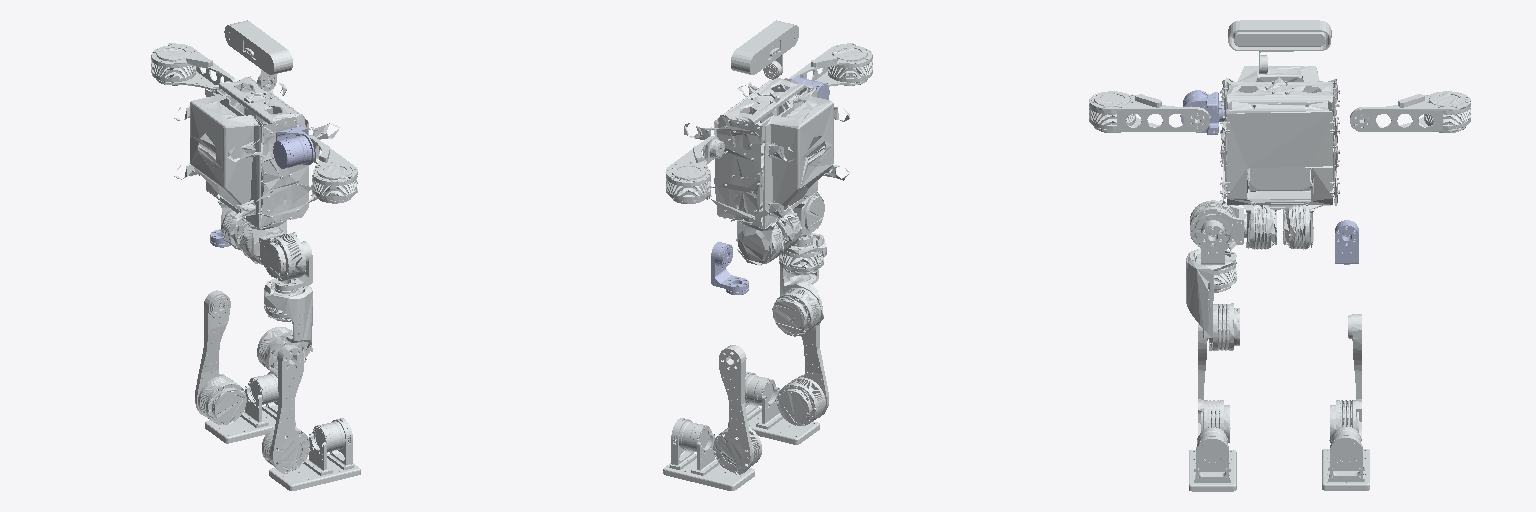
The robot description file, URDF, robot "MOS9.2_urdf_0308-4":
<?xml version='1.0' encoding='utf-8'?>
<robot name="MOS9.2_urdf_0308-4">
  <link name="body">
    <inertial>
      <origin xyz="-0.0182501208826118 -0.00190049970240902 0.0863636963583089" rpy="0 0 0" />
      <mass value="4.35806806126274" />
      <inertia ixx="0.0126554214449882" ixy="-1.94365827372157E-06" ixz="-0.000106200880503345" iyy="0.00838591116778958" iyz="-3.40121566836312E-07" izz="0.00895360202585989" />
    </inertial>
    <visual>
      <origin xyz="0 0 0" rpy="0 0 0" />
      <geometry>
        <mesh filename="meshes/body.stl" />
      </geometry>
      <material name="">
        <color rgba="0.898039215686275 0.917647058823529 0.929411764705882 1" />
      </material>
    </visual>
    <collision>
      <origin xyz="0 0 0" rpy="0 0 0" />
      <geometry>
        <mesh filename="meshes/body.stl" />
      </geometry>
    </collision>
  </link>
  <link name="neck">
    <inertial>
      <origin xyz="-0.000187733021383862 0.00313210111852241 0.0367257386628151" rpy="0 0 0" />
      <mass value="0.243152851941267" />
      <inertia ixx="0.000107527809141662" ixy="2.32844382833212E-09" ixz="-3.79598574699867E-07" iyy="0.000106047679861548" iyz="6.89109259403018E-06" izz="0.000100507717987487" />
    </inertial>
    <visual>
      <origin xyz="0 0 0" rpy="0 0 0" />
      <geometry>
        <mesh filename="meshes/neck.stl" />
      </geometry>
      <material name="">
        <color rgba="0.898039215686275 0.917647058823529 0.929411764705882 1" />
      </material>
    </visual>
    <collision>
      <origin xyz="0 0 0" rpy="0 0 0" />
      <geometry>
        <mesh filename="meshes/neck.stl" />
      </geometry>
    </collision>
  </link>
  <joint name="b_n" type="revolute">
    <origin xyz="-0.005 0 0.2441" rpy="0 0 0" />
    <parent link="body" />
    <child link="neck" />
    <axis xyz="0 0 -1" />
    <limit lower="-3.141592653589793" upper="3.141592653589793" effort="60" velocity="20" />
  </joint>
  <link name="head">
    <inertial>
      <origin xyz="-0.00148614977503109 0.0537575763860302 -0.0296115992755681" rpy="0 0 0" />
      <mass value="0.322467436272026" />
      <inertia ixx="0.000786985359858465" ixy="8.48624102566507E-08" ixz="3.88916575671315E-09" iyy="0.000779452507232674" iyz="-7.57222414279963E-06" izz="9.3920453594969E-05" />
    </inertial>
    <visual>
      <origin xyz="0 0 0" rpy="0 0 0" />
      <geometry>
        <mesh filename="meshes/head.stl" />
      </geometry>
      <material name="">
        <color rgba="0.898039215686275 0.917647058823529 0.929411764705882 1" />
      </material>
    </visual>
    <collision>
      <origin xyz="0 0 0" rpy="0 0 0" />
      <geometry>
        <mesh filename="meshes/head.stl" />
      </geometry>
    </collision>
  </link>
  <joint name="n_h" type="revolute">
    <origin xyz="0 -0.033 0.0475" rpy="1.5707963267949 0 0" />
    <parent link="neck" />
    <child link="head" />
    <axis xyz="0 0 -1" />
    <limit lower="-3.141592653589793" upper="3.141592653589793" effort="60" velocity="20" />
  </joint>
  <link name="Rshoulder">
    <inertial>
      <origin xyz="-0.00132059633693976 5.62178901126614E-05 -0.0337001041277888" rpy="0 0 0" />
      <mass value="0.244736730758832" />
      <inertia ixx="0.000129373968243136" ixy="-8.60991135369166E-08" ixz="1.2078891148474E-05" iyy="8.79104114782035E-05" iyz="-2.4422653123027E-07" izz="0.000106520121171402" />
    </inertial>
    <visual>
      <origin xyz="0 0 0" rpy="0 0 0" />
      <geometry>
        <mesh filename="meshes/Rshoulder.stl" />
      </geometry>
      <material name="">
        <color rgba="0.792156862745098 0.819607843137255 0.933333333333333 1" />
      </material>
    </visual>
    <collision>
      <origin xyz="0 0 0" rpy="0 0 0" />
      <geometry>
        <mesh filename="meshes/Rshoulder.stl" />
      </geometry>
    </collision>
  </link>
  <joint name="b_Rs" type="revolute">
    <origin xyz="-0.0100000000000138 -0.105000000000124 0.192100000000112" rpy="1.5707963267949 0 -3.14159265358979" />
    <parent link="body" />
    <child link="Rshoulder" />
    <axis xyz="0 0 -1" />
    <limit lower="-3.141592653589793" upper="3.141592653589793" effort="60" velocity="20" />
  </joint>
  <link name="Rarm">
    <inertial>
      <origin xyz="0.123976619673335 2.3816494963344E-05 0.0179849541694587" rpy="0 0 0" />
      <mass value="0.505922675972045" />
      <inertia ixx="0.000249177335899191" ixy="2.41233180203102E-05" ixz="5.12994020146406E-05" iyy="0.000863279087734146" iyz="8.96071856183868E-06" izz="0.000769798783434279" />
    </inertial>
    <visual>
      <origin xyz="0 0 0" rpy="0 0 0" />
      <geometry>
        <mesh filename="meshes/Rarm.stl" />
      </geometry>
      <material name="">
        <color rgba="0.898039215686275 0.917647058823529 0.929411764705882 1" />
      </material>
    </visual>
    <collision>
      <origin xyz="0 0 0" rpy="0 0 0" />
      <geometry>
        <mesh filename="meshes/Rarm.stl" />
      </geometry>
    </collision>
  </link>
  <joint name="Rs_Ra" type="revolute">
    <origin xyz="-0.0250000000000136 0 -0.0489999999998756" rpy="0 1.5707963267949 0" />
    <parent link="Rshoulder" />
    <child link="Rarm" />
    <axis xyz="0 0 1" />
    <limit lower="-3.141592653589793" upper="3.141592653589793" effort="60" velocity="20" />
  </joint>
  <link name="Rhand">
    <inertial>
      <origin xyz="0.109240589043814 0.000677471556759845 -0.00178541903634942" rpy="0 0 0" />
      <mass value="0.273862324070502" />
      <inertia ixx="5.2613968285487E-05" ixy="4.01189603422068E-06" ixz="2.85280392770804E-05" iyy="0.000699576611389701" iyz="1.76848091002788E-07" izz="0.000725679519367959" />
    </inertial>
    <visual>
      <origin xyz="0 0 0" rpy="0 0 0" />
      <geometry>
        <mesh filename="meshes/Rhand.stl" />
      </geometry>
      <material name="">
        <color rgba="0.898039215686275 0.917647058823529 0.929411764705882 1" />
      </material>
    </visual>
    <collision>
      <origin xyz="0 0 0" rpy="0 0 0" />
      <geometry>
        <mesh filename="meshes/Rhand.stl" />
      </geometry>
    </collision>
  </link>
  <joint name="Ra_Rh" type="revolute">
    <origin xyz="0.16 0.0286499999999997 0.0299999999999999" rpy="1.5707963267949 0 0" />
    <parent link="Rarm" />
    <child link="Rhand" />
    <axis xyz="0 0 -1" />
    <limit lower="-3.141592653589793" upper="3.141592653589793" effort="60" velocity="20" />
  </joint>
  <link name="Lshoulder">
    <inertial>
      <origin xyz="0.00132063035506957 5.63171682046171E-05 -0.0337001075421161" rpy="0 0 0" />
      <mass value="0.244736778509988" />
      <inertia ixx="0.000129374049886736" ixy="8.53358338819827E-08" ixz="-1.20789422702937E-05" iyy="8.79120362451655E-05" iyz="-2.4164238223282E-07" izz="0.000106518334762561" />
    </inertial>
    <visual>
      <origin xyz="0 0 0" rpy="0 0 0" />
      <geometry>
        <mesh filename="meshes/Lshoulder.stl" />
      </geometry>
      <material name="">
        <color rgba="0.792156862745098 0.819607843137255 0.933333333333333 1" />
      </material>
    </visual>
    <collision>
      <origin xyz="0 0 0" rpy="0 0 0" />
      <geometry>
        <mesh filename="meshes/Lshoulder.stl" />
      </geometry>
    </collision>
  </link>
  <joint name="b_Ls" type="revolute">
    <origin xyz="-0.00999998124092416 0.105000001016346 0.192100005298829" rpy="1.5707963267949 0 0" />
    <parent link="body" />
    <child link="Lshoulder" />
    <axis xyz="0 0 -1" />
    <limit lower="-3.141592653589793" upper="3.141592653589793" effort="60" velocity="20" />
  </joint>
  <link name="Larm">
    <inertial>
      <origin xyz="0.123966814199197 2.38166802215833E-05 -0.017975150553097" rpy="0 0 0" />
      <mass value="0.505922690783429" />
      <inertia ixx="0.000249179325079772" ixy="2.41233167513086E-05" ixz="-5.12994012520643E-05" iyy="0.000863279097732329" iyz="-8.96071866395451E-06" izz="0.000769796795530053" />
    </inertial>
    <visual>
      <origin xyz="0 0 0" rpy="0 0 0" />
      <geometry>
        <mesh filename="meshes/Larm.stl" />
      </geometry>
      <material name="">
        <color rgba="0.898039215686275 0.917647058823529 0.929411764705882 1" />
      </material>
    </visual>
    <collision>
      <origin xyz="0 0 0" rpy="0 0 0" />
      <geometry>
        <mesh filename="meshes/Larm.stl" />
      </geometry>
    </collision>
  </link>
  <joint name="Ls_La" type="revolute">
    <origin xyz="0.0249999812409242 0 -0.0489999989836545" rpy="0 1.5707963267949 0" />
    <parent link="Lshoulder" />
    <child link="Larm" />
    <axis xyz="0 0 -1" />
    <limit lower="-3.141592653589793" upper="3.141592653589793" effort="60" velocity="20" />
  </joint>
  <link name="Lhand">
    <inertial>
      <origin xyz="-0.109242689903327 -2.67381965457503E-08 -0.00178541891944009" rpy="0 0 0" />
      <mass value="0.273862322424458" />
      <inertia ixx="5.25890920084874E-05" ixy="-3.81681361599439E-10" ixz="-2.85285855769356E-05" iyy="0.000699601487073087" iyz="6.71512616747776E-11" izz="0.000725679519010215" />
    </inertial>
    <visual>
      <origin xyz="0 0 0" rpy="0 0 0" />
      <geometry>
        <mesh filename="meshes/Lhand.stl" />
      </geometry>
      <material name="">
        <color rgba="0.898039215686275 0.917647058823529 0.929411764705882 1" />
      </material>
    </visual>
    <collision>
      <origin xyz="0 0 0" rpy="0 0 0" />
      <geometry>
        <mesh filename="meshes/Lhand.stl" />
      </geometry>
    </collision>
  </link>
  <joint name="La_Lh" type="revolute">
    <origin xyz="0.16 0.0286500000000008 -0.0299999999999989" rpy="-1.5707963267949 0 3.14159265358979" />
    <parent link="Larm" />
    <child link="Lhand" />
    <axis xyz="0 0 -1" />
    <limit lower="-3.141592653589793" upper="3.141592653589793" effort="60" velocity="20" />
  </joint>
  <link name="Rhip">
    <inertial>
      <origin xyz="0.00165224983746645 -0.000153256597703239 -0.04716983324128" rpy="0 0 0" />
      <mass value="0.447922579537738" />
      <inertia ixx="0.000336557260611948" ixy="6.73410632138989E-07" ixz="-1.54851819022286E-07" iyy="0.000175984295076371" iyz="-3.79544774009115E-08" izz="0.00021248524943445" />
    </inertial>
    <visual>
      <origin xyz="0 0 0" rpy="0 0 0" />
      <geometry>
        <mesh filename="meshes/Rhip.stl" />
      </geometry>
      <material name="">
        <color rgba="0.898039215686275 0.917647058823529 0.929411764705882 1" />
      </material>
    </visual>
    <collision>
      <origin xyz="0 0 0" rpy="0 0 0" />
      <geometry>
        <mesh filename="meshes/Rhip.stl" />
      </geometry>
    </collision>
  </link>
  <joint name="b_Rh" type="revolute">
    <origin xyz="-0.0150000000000001 -0.0645 -0.0466" rpy="1.5707963267949 0 3.14159265358979" />
    <parent link="body" />
    <child link="Rhip" />
    <axis xyz="0 0 1" />
    <limit lower="-3.141592653589793" upper="3.141592653589793" effort="60" velocity="20" />
  </joint>
  <link name="Rlap">
    <inertial>
      <origin xyz="3.09121089836495E-10 -0.031721697647471 0.000916614078336042" rpy="0 0 0" />
      <mass value="0.175119556314121" />
      <inertia ixx="0.000155307669924318" ixy="1.87603158621217E-12" ixz="3.79507968706983E-13" iyy="7.5052789038172E-05" iyz="-3.48905088975491E-05" izz="0.000137460344788302" />
    </inertial>
    <visual>
      <origin xyz="0 0 0" rpy="0 0 0" />
      <geometry>
        <mesh filename="meshes/Rlap.stl" />
      </geometry>
      <material name="">
        <color rgba="0.898039215686275 0.917647058823529 0.929411764705882 1" />
      </material>
    </visual>
    <collision>
      <origin xyz="0 0 0" rpy="0 0 0" />
      <geometry>
        <mesh filename="meshes/Rlap.stl" />
      </geometry>
    </collision>
  </link>
  <joint name="Rh_Rl" type="revolute">
    <origin xyz="-0.0275 0 -0.061" rpy="0 1.5707963267949 0" />
    <parent link="Rhip" />
    <child link="Rlap" />
    <axis xyz="0 0 -1" />
    <limit lower="-3.141592653589793" upper="3.141592653589793" effort="60" velocity="20" />
  </joint>
  <link name="Rleg1">
    <inertial>
      <origin xyz="0.000530354807968397 -0.00413771934599061 -0.0824206235447885" rpy="0 0 0" />
      <mass value="0.966091751905849" />
      <inertia ixx="0.00165524755190869" ixy="6.84286273811622E-06" ixz="-4.97413624702097E-05" iyy="0.00139196745796225" iyz="7.9840999362446E-05" izz="0.000841039186200865" />
    </inertial>
    <visual>
      <origin xyz="0 0 0" rpy="0 0 0" />
      <geometry>
        <mesh filename="meshes/Rleg1.stl" />
      </geometry>
      <material name="">
        <color rgba="0.898039215686275 0.917647058823529 0.929411764705882 1" />
      </material>
    </visual>
    <collision>
      <origin xyz="0 0 0" rpy="0 0 0" />
      <geometry>
        <mesh filename="meshes/Rleg1.stl" />
      </geometry>
    </collision>
  </link>
  <joint name="Rl_Rl1" type="revolute">
    <origin xyz="0 -0.063 0.0280000000000001" rpy="1.5707963267949 0 3.14159265358979" />
    <parent link="Rlap" />
    <child link="Rleg1" />
    <axis xyz="0 0 -1" />
    <limit lower="-3.141592653589793" upper="3.141592653589793" effort="60" velocity="20" />
  </joint>
  <link name="Rleg2">
    <inertial>
      <origin xyz="-0.00407191869623438 -0.135567799725998 -0.00123327776602503" rpy="0 0 0" />
      <mass value="0.624084469676422" />
      <inertia ixx="0.00145322270859193" ixy="0.00017224973098276" ixz="-4.17604226750762E-06" iyy="0.000231800595801017" iyz="-3.19103261849037E-05" izz="0.00164919662535833" />
    </inertial>
    <visual>
      <origin xyz="0 0 0" rpy="0 0 0" />
      <geometry>
        <mesh filename="meshes/Rleg2.stl" />
      </geometry>
      <material name="">
        <color rgba="0.898039215686275 0.917647058823529 0.929411764705882 1" />
      </material>
    </visual>
    <collision>
      <origin xyz="0 0 0" rpy="0 0 0" />
      <geometry>
        <mesh filename="meshes/Rleg2.stl" />
      </geometry>
    </collision>
  </link>
  <joint name="Rl1_Rl2" type="revolute">
    <origin xyz="-0.00900000000000004 0 -0.146" rpy="1.5707963267949 0 -1.5707963267949" />
    <parent link="Rleg1" />
    <child link="Rleg2" />
    <axis xyz="0 0 -1" />
    <limit lower="-3.141592653589793" upper="3.141592653589793" effort="60" velocity="20" />
  </joint>
  <link name="Rankle">
    <inertial>
      <origin xyz="0.0321512482443131 -4.59865812096893E-10 -0.00303590911349036" rpy="0 0 0" />
      <mass value="0.187524858365076" />
      <inertia ixx="8.43581348561701E-05" ixy="-5.54891405587586E-12" ixz="-5.16990624082217E-05" iyy="0.000197060970011504" iyz="4.7559976232924E-12" izz="0.000176852205140379" />
    </inertial>
    <visual>
      <origin xyz="0 0 0" rpy="0 0 0" />
      <geometry>
        <mesh filename="meshes/Rankle.stl" />
      </geometry>
      <material name="">
        <color rgba="0.792156862745098 0.819607843137255 0.933333333333333 1" />
      </material>
    </visual>
    <collision>
      <origin xyz="0 0 0" rpy="0 0 0" />
      <geometry>
        <mesh filename="meshes/Rankle.stl" />
      </geometry>
    </collision>
  </link>
  <joint name="Rl2_Ra" type="revolute">
    <origin xyz="0 -0.2 0.0177999999999997" rpy="0 0 0" />
    <parent link="Rleg2" />
    <child link="Rankle" />
    <axis xyz="0 0 -1" />
    <limit lower="-3.141592653589793" upper="3.141592653589793" effort="60" velocity="20" />
  </joint>
  <link name="Rfoot">
    <inertial>
      <origin xyz="8.61075291624935E-09 -0.0355878322875397 0.0190508449468564" rpy="0 0 0" />
      <mass value="0.444249339436953" />
      <inertia ixx="0.000484874156663831" ixy="-1.04013978438541E-09" ixz="8.17922954088945E-12" iyy="0.000600950991503066" iyz="3.7593433377245E-06" izz="0.00032562953876197" />
    </inertial>
    <visual>
      <origin xyz="0 0 0" rpy="0 0 0" />
      <geometry>
        <mesh filename="meshes/Rfoot.stl" />
      </geometry>
      <material name="">
        <color rgba="0.898039215686275 0.917647058823529 0.929411764705882 1" />
      </material>
    </visual>
    <collision>
      <origin xyz="0 0 0" rpy="0 0 0" />
      <geometry>
        <mesh filename="meshes/Rfoot.stl" />
      </geometry>
    </collision>
  </link>
  <joint name="Ra_Rf" type="revolute">
    <origin xyz="0.0689999999999583 0 -0.0259999999999973" rpy="0 1.5707963267949 0" />
    <parent link="Rankle" />
    <child link="Rfoot" />
    <axis xyz="0 0 1" />
    <limit lower="-3.141592653589793" upper="3.141592653589793" effort="60" velocity="20" />
  </joint>
  <link name="Lhip">
    <inertial>
      <origin xyz="0.00165224894900179 -7.3220696434062E-05 0.0471698378385199" rpy="0 0 0" />
      <mass value="0.447922591167837" />
      <inertia ixx="0.000336557268700897" ixy="6.73410419859425E-07" ixz="1.54852005222124E-07" iyy="0.000175984305860162" iyz="4.25225663555847E-08" izz="0.00021248524919222" />
    </inertial>
    <visual>
      <origin xyz="0 0 0" rpy="0 0 0" />
      <geometry>
        <mesh filename="meshes/Lhip.stl" />
      </geometry>
      <material name="">
        <color rgba="0.898039215686275 0.917647058823529 0.929411764705882 1" />
      </material>
    </visual>
    <collision>
      <origin xyz="0 0 0" rpy="0 0 0" />
      <geometry>
        <mesh filename="meshes/Lhip.stl" />
      </geometry>
    </collision>
  </link>
  <joint name="b_Lh" type="revolute">
    <origin xyz="-0.0150000000000001 0.0645 -0.0466" rpy="1.5707963267949 0 3.14159265358979" />
    <parent link="body" />
    <child link="Lhip" />
    <axis xyz="0 0 -1" />
    <limit lower="-3.141592653589793" upper="3.141592653589793" effort="60" velocity="20" />
  </joint>
  <link name="Llap">
    <inertial>
      <origin xyz="3.09119480013109E-10 -0.0317216976474549 0.00091661407832061" rpy="0 0 0" />
      <mass value="0.175119556314121" />
      <inertia ixx="0.000155307669924318" ixy="1.87603139572582E-12" ixz="3.79508076653435E-13" iyy="7.5052789038172E-05" iyz="-3.48905088975491E-05" izz="0.000137460344788301" />
    </inertial>
    <visual>
      <origin xyz="0 0 0" rpy="0 0 0" />
      <geometry>
        <mesh filename="meshes/Llap.stl" />
      </geometry>
      <material name="">
        <color rgba="0.792156862745098 0.819607843137255 0.933333333333333 1" />
      </material>
    </visual>
    <collision>
      <origin xyz="0 0 0" rpy="0 0 0" />
      <geometry>
        <mesh filename="meshes/Llap.stl" />
      </geometry>
    </collision>
  </link>
  <joint name="Lh_Ll" type="revolute">
    <origin xyz="-0.027499999999988 9.99999999794776E-05 0.0609999999999988" rpy="0 1.5707963267949 0" />
    <parent link="Lhip" />
    <child link="Llap" />
    <axis xyz="0 0 -1" />
    <limit lower="-3.141592653589793" upper="3.141592653589793" effort="60" velocity="20" />
  </joint>
  <link name="Lleg1">
    <inertial>
      <origin xyz="-0.000535781615046887 -0.00413973081999081 -0.0824206486794982" rpy="0 0 0" />
      <mass value="0.966092683290071" />
      <inertia ixx="0.00165521762552366" ixy="-6.82778477112363E-06" ixz="4.97314795751503E-05" iyy="0.00139199006627133" iyz="7.98067807966714E-05" izz="0.000841059727133304" />
    </inertial>
    <visual>
      <origin xyz="0 0 0" rpy="0 0 0" />
      <geometry>
        <mesh filename="meshes/Lleg1.stl" />
      </geometry>
      <material name="">
        <color rgba="0.898039215686275 0.917647058823529 0.929411764705882 1" />
      </material>
    </visual>
    <collision>
      <origin xyz="0 0 0" rpy="0 0 0" />
      <geometry>
        <mesh filename="meshes/Lleg1.stl" />
      </geometry>
    </collision>
  </link>
  <joint name="Ll_Ll1" type="revolute">
    <origin xyz="0 -0.0629999999999796 0.0279999999999841" rpy="1.5707963267949 0 3.14159265358979" />
    <parent link="Llap" />
    <child link="Lleg1" />
    <axis xyz="0 0 -1" />
    <limit lower="-3.141592653589793" upper="3.141592653589793" effort="60" velocity="20" />
  </joint>
  <link name="Lleg2">
    <inertial>
      <origin xyz="0.0040643776620283 -0.135558974776272 -0.00123327766586004" rpy="0 0 0" />
      <mass value="0.624084469535357" />
      <inertia ixx="0.00145348876804195" ixy="-0.0001722077363818" ixz="4.17604198693121E-06" iyy="0.000231534517074698" iyz="-3.19103262868342E-05" izz="0.00164919660589498" />
    </inertial>
    <visual>
      <origin xyz="0 0 0" rpy="0 0 0" />
      <geometry>
        <mesh filename="meshes/Lleg2.stl" />
      </geometry>
      <material name="">
        <color rgba="0.898039215686275 0.917647058823529 0.929411764705882 1" />
      </material>
    </visual>
    <collision>
      <origin xyz="0 0 0" rpy="0 0 0" />
      <geometry>
        <mesh filename="meshes/Lleg2.stl" />
      </geometry>
    </collision>
  </link>
  <joint name="Ll1_Ll2" type="revolute">
    <origin xyz="0.00900000000000006 0 -0.146" rpy="1.5707963267949 0 1.5707963267949" />
    <parent link="Lleg1" />
    <child link="Lleg2" />
    <axis xyz="0 0 -1" />
    <limit lower="-3.141592653589793" upper="3.141592653589793" effort="60" velocity="20" />
  </joint>
  <link name="Lankle">
    <inertial>
      <origin xyz="-0.0321512482442743 6.91723612318285E-05 -0.00313158675555364" rpy="0 0 0" />
      <mass value="0.187524858365075" />
      <inertia ixx="8.43581348561703E-05" ixy="-5.54891369083716E-12" ixz="5.16990624082219E-05" iyy="0.000197060970011504" iyz="-4.75599754806032E-12" izz="0.000176852205140379" />
    </inertial>
    <visual>
      <origin xyz="0 0 0" rpy="0 0 0" />
      <geometry>
        <mesh filename="meshes/Lankle.stl" />
      </geometry>
      <material name="">
        <color rgba="0.898039215686275 0.917647058823529 0.929411764705882 1" />
      </material>
    </visual>
    <collision>
      <origin xyz="0 0 0" rpy="0 0 0" />
      <geometry>
        <mesh filename="meshes/Lankle.stl" />
      </geometry>
    </collision>
  </link>
  <joint name="Ll2_La" type="revolute">
    <origin xyz="0 -0.2 0.0177999999999994" rpy="0 0 0" />
    <parent link="Lleg2" />
    <child link="Lankle" />
    <axis xyz="0 0 -1" />
    <limit lower="-3.141592653589793" upper="3.141592653589793" effort="60" velocity="20" />
  </joint>
  <link name="Lfoot">
    <inertial>
      <origin xyz="-8.61075105662579E-09 -0.0355878322875431 -0.0190508449499858" rpy="0 0 0" />
      <mass value="0.444249339436954" />
      <inertia ixx="0.000484874156663831" ixy="1.04013978438732E-09" ixz="8.17922940305474E-12" iyy="0.000600950991503065" iyz="-3.75934333772457E-06" izz="0.000325629538761971" />
    </inertial>
    <visual>
      <origin xyz="0 0 0" rpy="0 0 0" />
      <geometry>
        <mesh filename="meshes/Lfoot.stl" />
      </geometry>
      <material name="">
        <color rgba="0.898039215686275 0.917647058823529 0.929411764705882 1" />
      </material>
    </visual>
    <collision>
      <origin xyz="0 0 0" rpy="0 0 0" />
      <geometry>
        <mesh filename="meshes/Lfoot.stl" />
      </geometry>
    </collision>
  </link>
  <joint name="La_Lf" type="revolute">
    <origin xyz="-0.068999999995933 0.00155678563569939 -0.0281533249166232" rpy="0 1.5707963267949 0" />
    <parent link="Lankle" />
    <child link="Lfoot" />
    <axis xyz="0 0 -1" />
    <limit lower="-3.141592653589793" upper="3.141592653589793" effort="60" velocity="20" />
  </joint>
</robot>

--- Render facts (derived) ---
The picture shows the robot from 3 angles, left to right: view 1: azimuth 30°, elevation 25°; view 2: azimuth 150°, elevation 25°; view 3: azimuth 270°, elevation 25°; orthographic projection.
Robot: MOS9.2_urdf_0308-4 — 21 links, 20 joints (20 revolute); root link body; default pose: all joints at 0.
Links seen in each view (by area): view 1: body, Lleg2, Rleg2, Rfoot, Rleg1, Lfoot, Larm, head, Rarm, Rhip, Rshoulder, Rlap; view 2: body, Rleg1, Lleg2, Lfoot, Rleg2, Rfoot, Larm, head, Rarm, Llap, Rhip; view 3: body, Rleg1, Larm, Rarm, head, Rfoot, Lfoot, Lleg2, Rhip, Rleg2, Rlap, Llap (+1 smaller).
Link boxes in pixels (x1,y1,x2,y2): body: (174, 76, 339, 264); Lleg2: (195, 290, 246, 424); Rleg2: (262, 345, 309, 473); Rfoot: (269, 418, 360, 490); Rleg1: (257, 279, 312, 375); Lfoot: (205, 372, 295, 443); Larm: (151, 43, 236, 89); head: (224, 20, 292, 90); Rarm: (309, 135, 357, 203); Rhip: (259, 232, 305, 281); Rshoulder: (273, 126, 314, 168); Rlap: (275, 241, 312, 293); body: (684, 78, 849, 265); Rleg1: (772, 233, 826, 336); Lleg2: (713, 345, 761, 474); Lfoot: (663, 418, 754, 490); Rleg2: (777, 324, 828, 425); Rfoot: (728, 372, 819, 444); Larm: (665, 136, 724, 203); head: (731, 20, 798, 79); Rarm: (789, 43, 872, 86); Llap: (711, 242, 748, 294); Rhip: (792, 192, 824, 235); body: (1220, 66, 1339, 249); Rleg1: (1186, 248, 1239, 350); Larm: (1350, 91, 1470, 132); Rarm: (1089, 91, 1209, 132); head: (1228, 20, 1331, 73); Rfoot: (1189, 427, 1236, 491); Lfoot: (1322, 427, 1369, 490); Lleg2: (1329, 314, 1361, 442); Rhip: (1190, 200, 1246, 250); Rleg2: (1198, 323, 1230, 442); Rlap: (1201, 220, 1224, 264); Llap: (1335, 220, 1358, 264).
Bounding box of the posed robot: 0.264 × 0.716 × 0.9017 m (x, y, z).
Meshes: 21 distinct files referenced, 13 mesh visuals loaded (13 binary STL); not drawn: 8 (reference not matched to a file when rendering).
